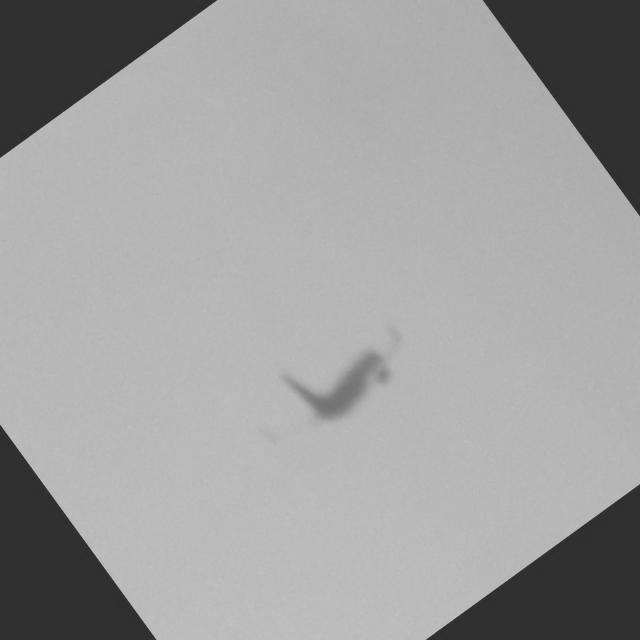aeroplane: (212, 266, 453, 488)
